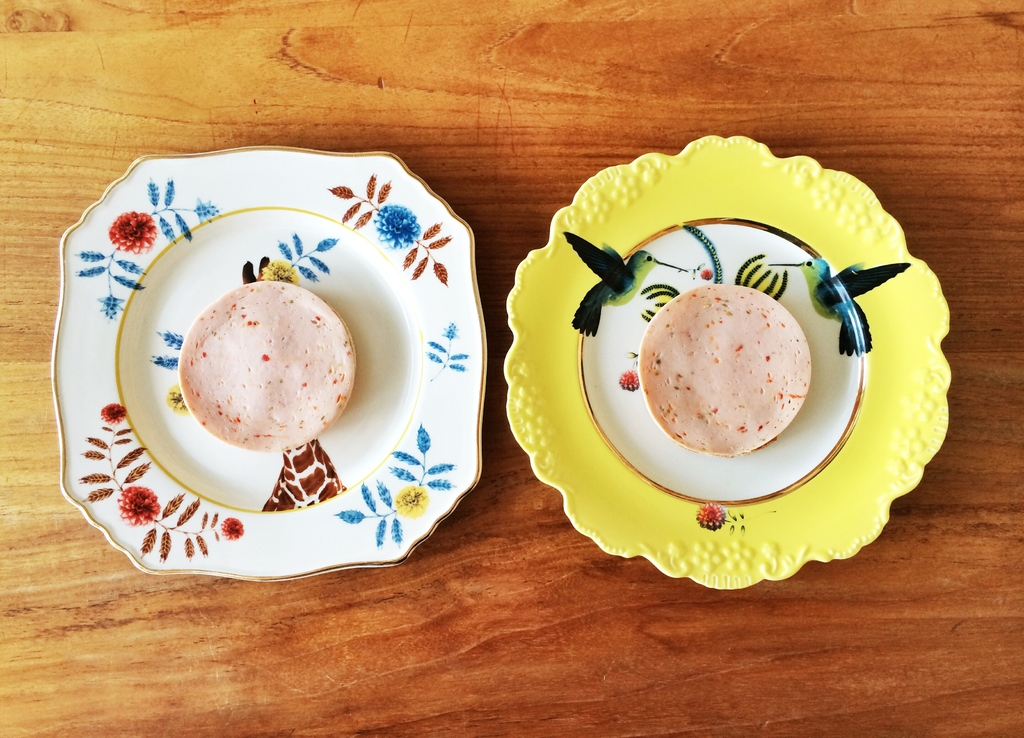plate: (501, 129, 954, 585)
